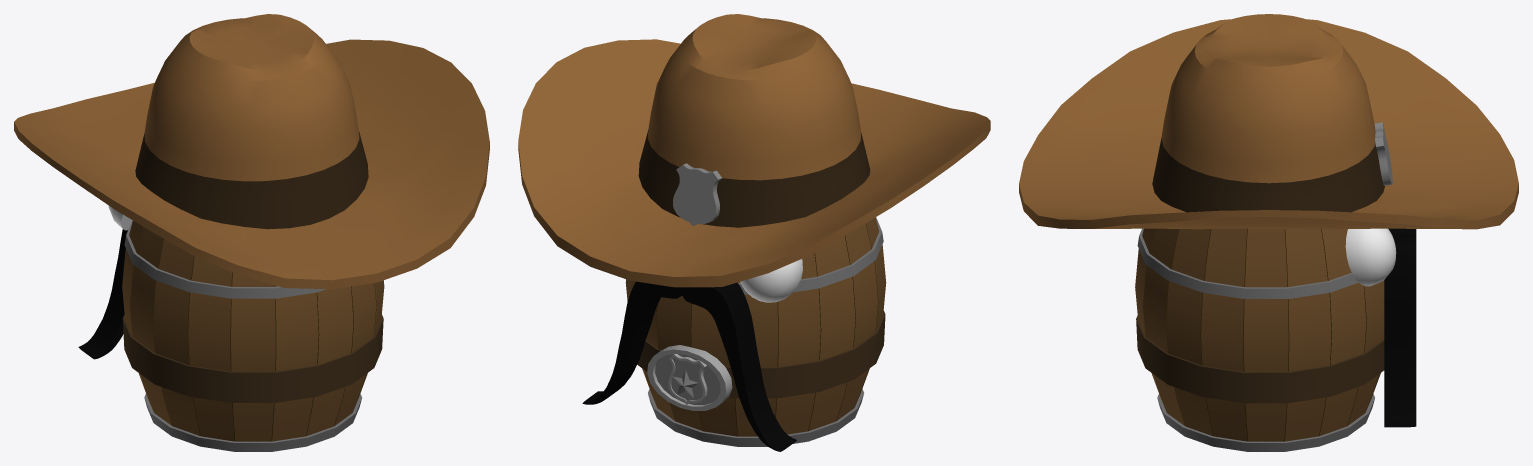
The model's file is barrel deputy 2 upgrade 2.fbx.
The picture shows the model from 3 angles, left to right: view 1: azimuth 30°, elevation 25°; view 2: azimuth 150°, elevation 25°; view 3: azimuth 270°, elevation 25°; orthographic projection.
Visible parts, largest first — view 1: barrel deputy; view 2: barrel deputy; view 3: barrel deputy.
Boxes of the visible parts, x1,y1,x2,y2 form: barrel deputy: (14,14,489,451); barrel deputy: (518,14,990,451); barrel deputy: (1019,14,1518,451).
Size of the model in its own units: 975 by 862 by 1060.
